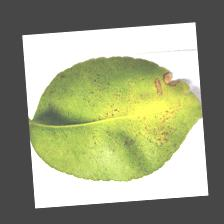canker: (86, 76, 128, 111)
